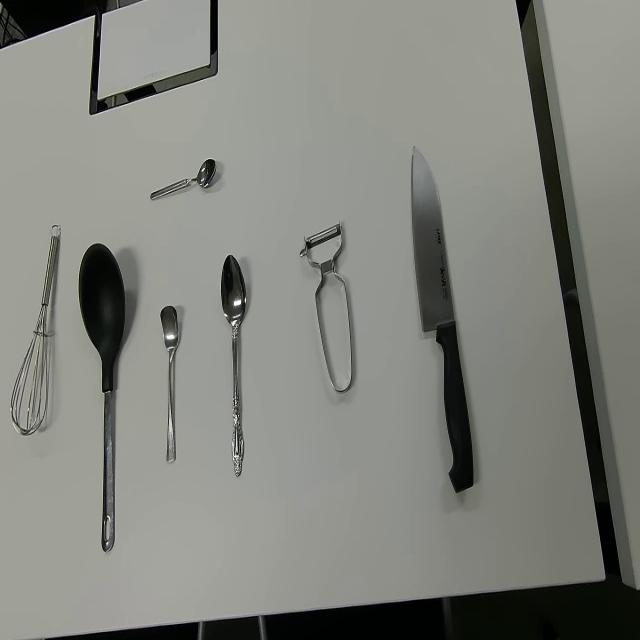Desert-Spoon: (220, 251, 247, 478)
Kitchen-Knife: (410, 144, 474, 495)
Peeler: (299, 218, 353, 393)
Serving-Spoon: (77, 241, 126, 554)
Tea-Spoon: (159, 303, 179, 464), (149, 157, 217, 201)
Whisk: (9, 222, 62, 437)
